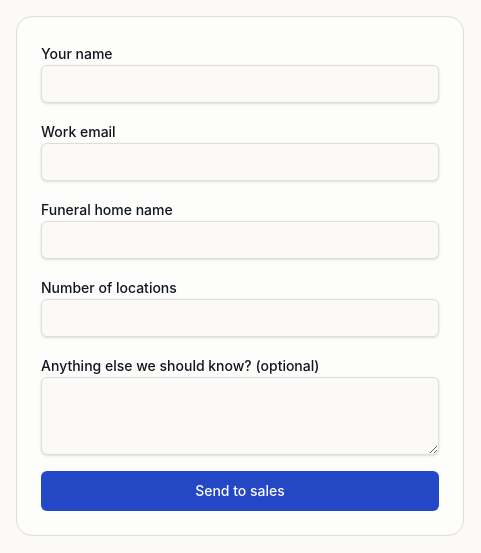
Test: ContactSalesForm › submits the form fields to the backend and shows a success state
Type "Jane Doe" into the field labelled "Your name". click: (240, 84)
box: x1=41 y1=65 x2=439 y2=103
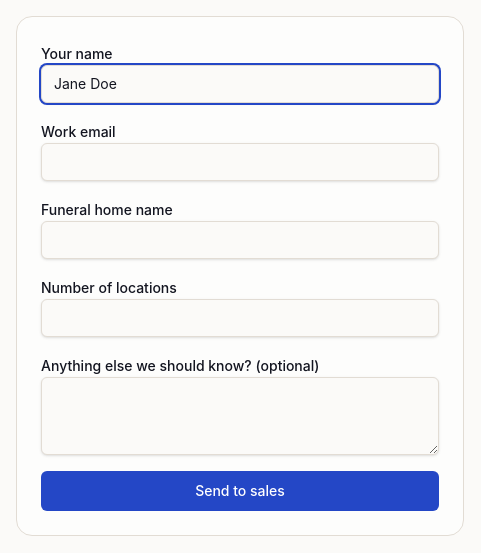
Type "jane@example.com" into the field labelled "Work email". click: (240, 162)
box: x1=41 y1=143 x2=439 y2=181
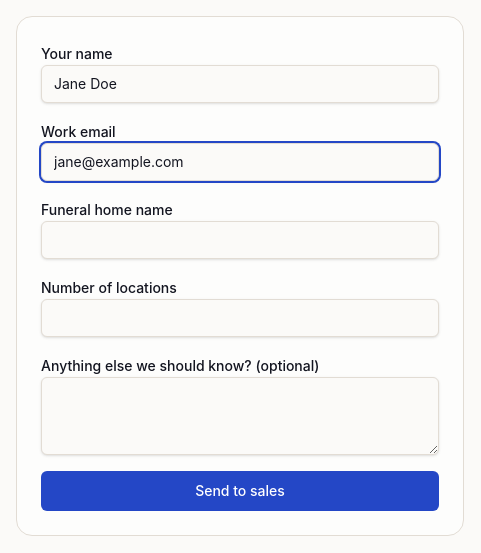
Type "Doe Family Funeral Home" into the field labelled "Funeral home name". click: (240, 240)
box: x1=41 y1=221 x2=439 y2=259
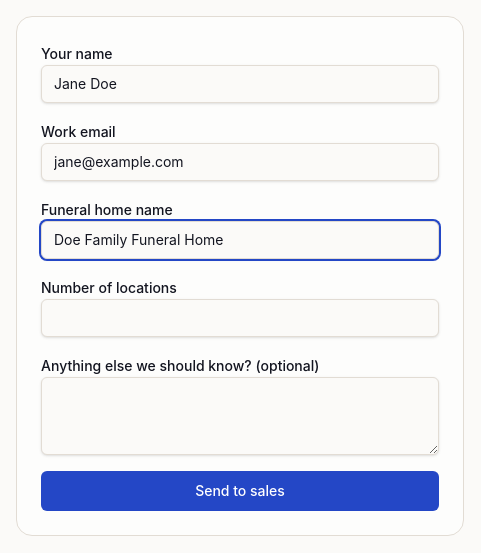
Type "5" into the number field labelled "Number of locations". click: (240, 318)
box: x1=41 y1=299 x2=439 y2=337
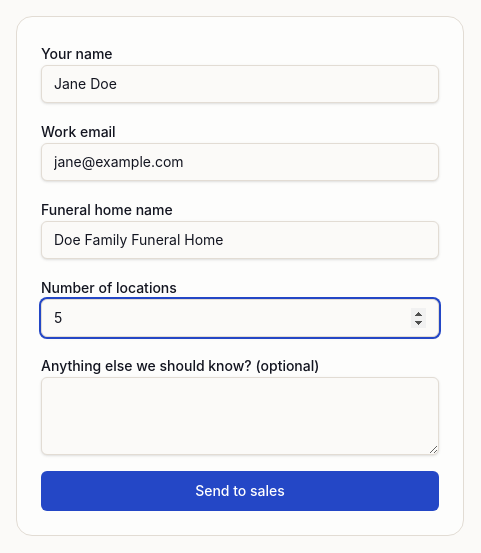
Click the button "Send to sales". click: (240, 491)
box: x1=41 y1=471 x2=439 y2=511
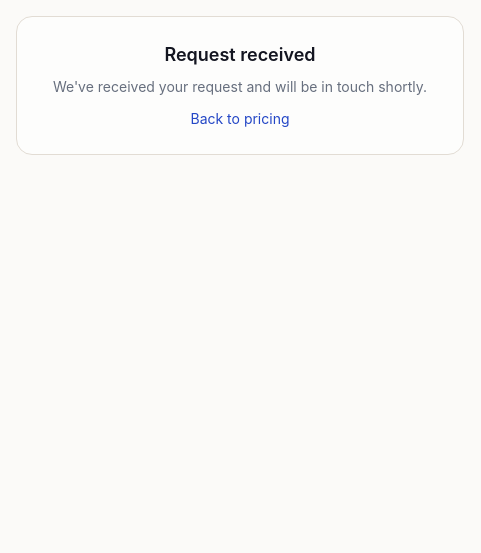
Expected: the heading "Request received" is shown, x1=164 y1=44 x2=316 y2=65
